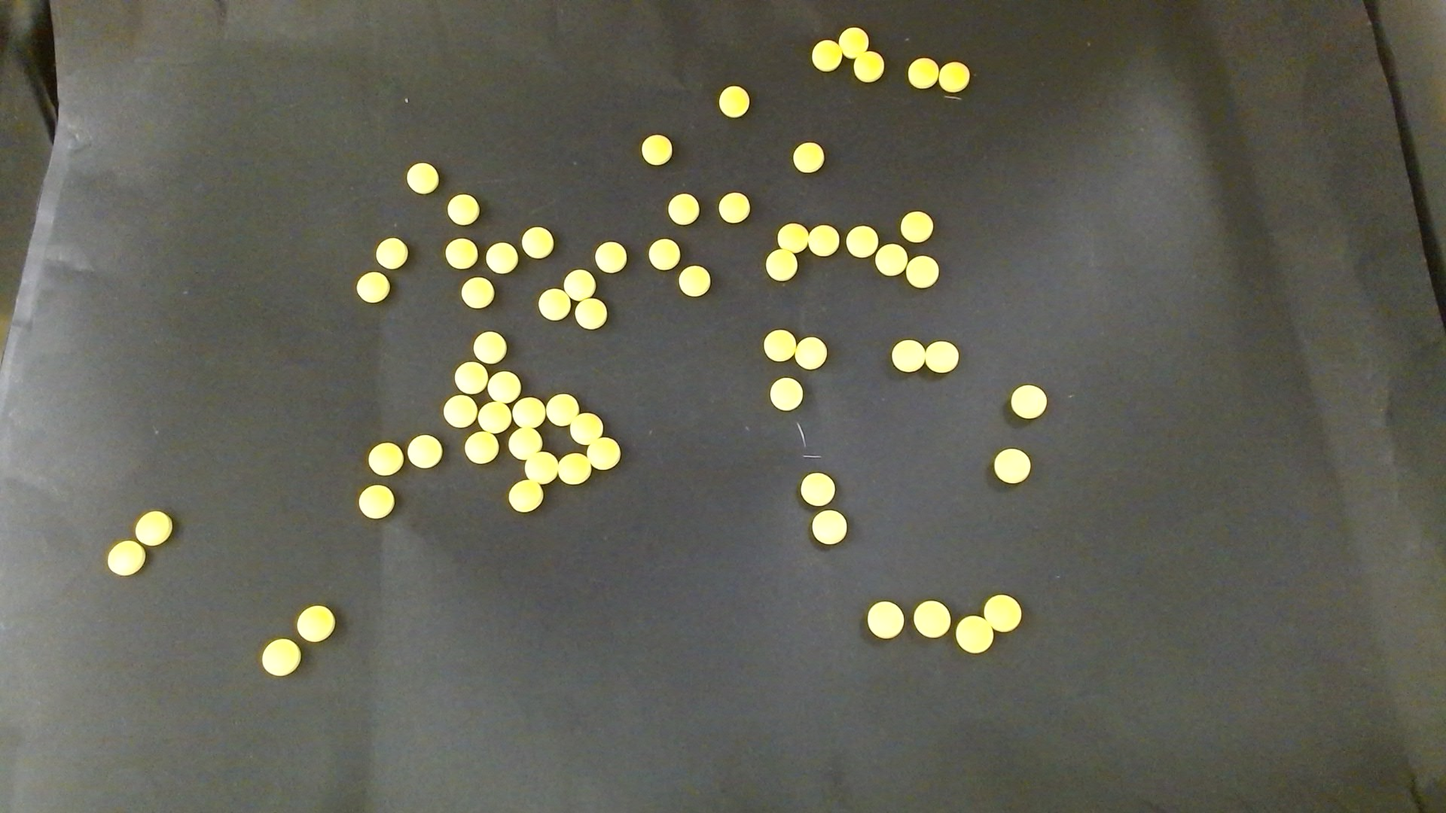Circle: (260, 638, 301, 677), (866, 599, 905, 639), (295, 604, 335, 643), (1008, 383, 1048, 421), (106, 539, 146, 577), (133, 510, 173, 547), (955, 616, 993, 654), (983, 593, 1020, 632), (913, 600, 950, 638), (993, 448, 1031, 484), (810, 510, 848, 546), (358, 484, 395, 519), (368, 441, 403, 476), (801, 472, 835, 506), (472, 330, 506, 364), (442, 394, 476, 428), (356, 270, 391, 303), (639, 133, 673, 166), (508, 480, 542, 513), (408, 434, 441, 468), (899, 210, 933, 243), (453, 361, 487, 394), (406, 161, 439, 194), (891, 339, 924, 372), (461, 276, 494, 309), (763, 328, 796, 361), (924, 340, 957, 373), (464, 431, 497, 464), (795, 336, 827, 370), (511, 396, 545, 428), (792, 142, 825, 174), (765, 248, 797, 281), (447, 193, 480, 225), (574, 298, 607, 330), (375, 236, 407, 269), (521, 226, 554, 258), (905, 256, 938, 288), (557, 453, 590, 485), (594, 241, 627, 273), (508, 428, 541, 460), (478, 400, 511, 432), (524, 452, 558, 483), (718, 85, 750, 117), (678, 265, 710, 297), (587, 437, 619, 469), (488, 371, 520, 403), (770, 377, 801, 410), (569, 412, 602, 443), (538, 288, 569, 320), (445, 238, 477, 269), (546, 394, 578, 425), (718, 192, 749, 223), (648, 238, 679, 269), (875, 243, 906, 274), (485, 242, 516, 273), (939, 61, 969, 93), (847, 225, 877, 257), (853, 51, 884, 81), (907, 57, 937, 88), (811, 39, 841, 70), (668, 193, 698, 224), (564, 269, 595, 299), (777, 222, 808, 252), (838, 26, 868, 56), (810, 224, 838, 254)
